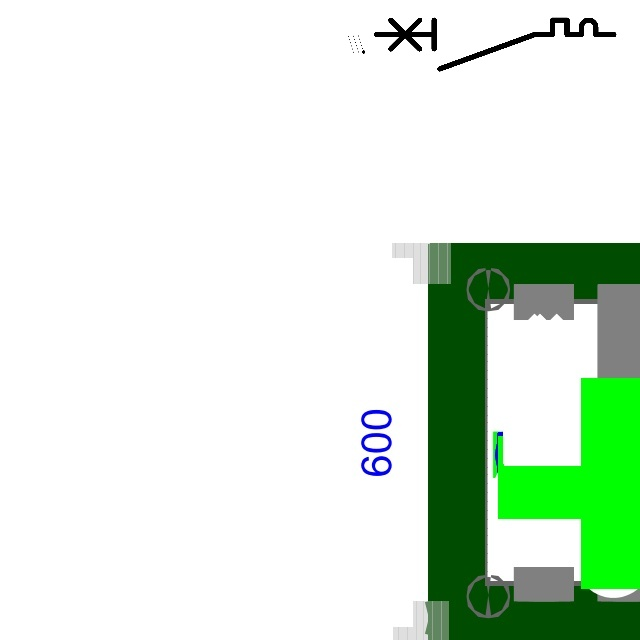interruptor_termomagnetico: (370, 14, 620, 75)
